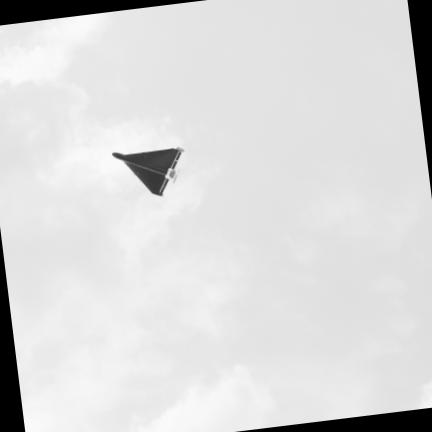Shahed: (113, 147, 183, 195)
